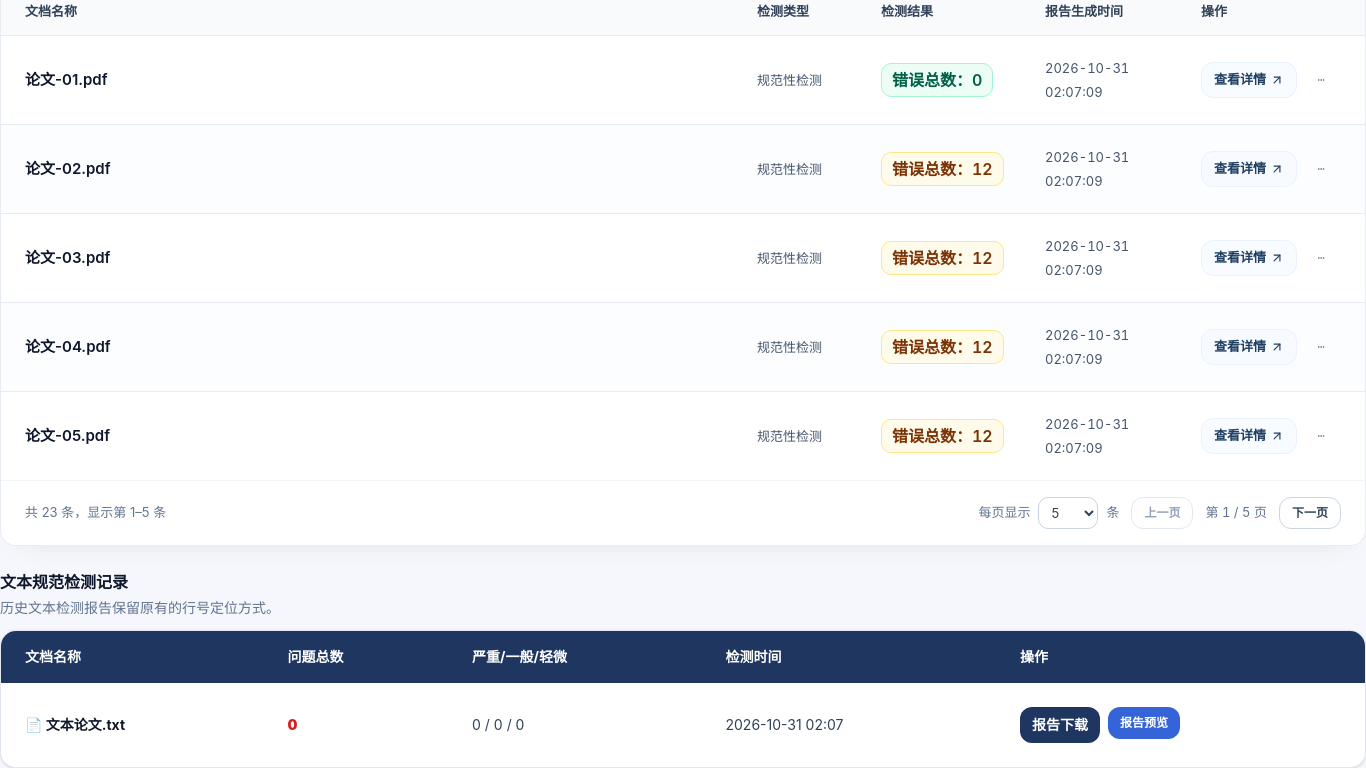
preserves the legacy text history and its existing detail branch alongside PDF history
(page scrolled)
Expected: the heading "文本规范检测记录" is shown, left=0, top=572, right=128, bottom=592
Expected: the text "2026-10-31 02:07" is shown, left=702, top=683, right=996, bottom=767
Click the link "报告预览" at [1144, 723], box left=1108, top=707, right=1180, bottom=739
(page scrolled)
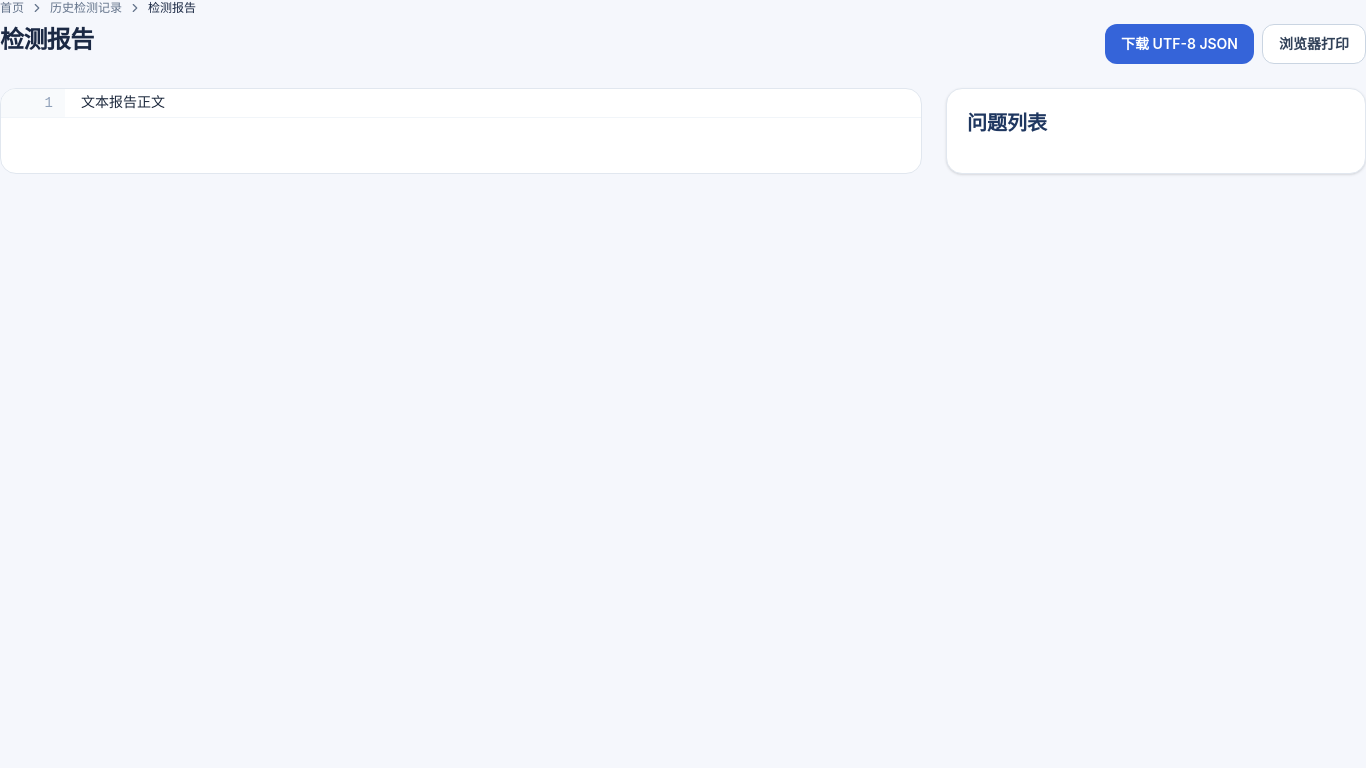
Result: the text "文本报告正文" is shown at left=81, top=95, right=165, bottom=111
Result: the heading "检测报告" is shown at left=0, top=24, right=94, bottom=56
Result: the button "下载 UTF-8 JSON" is shown at left=1105, top=24, right=1254, bottom=64
